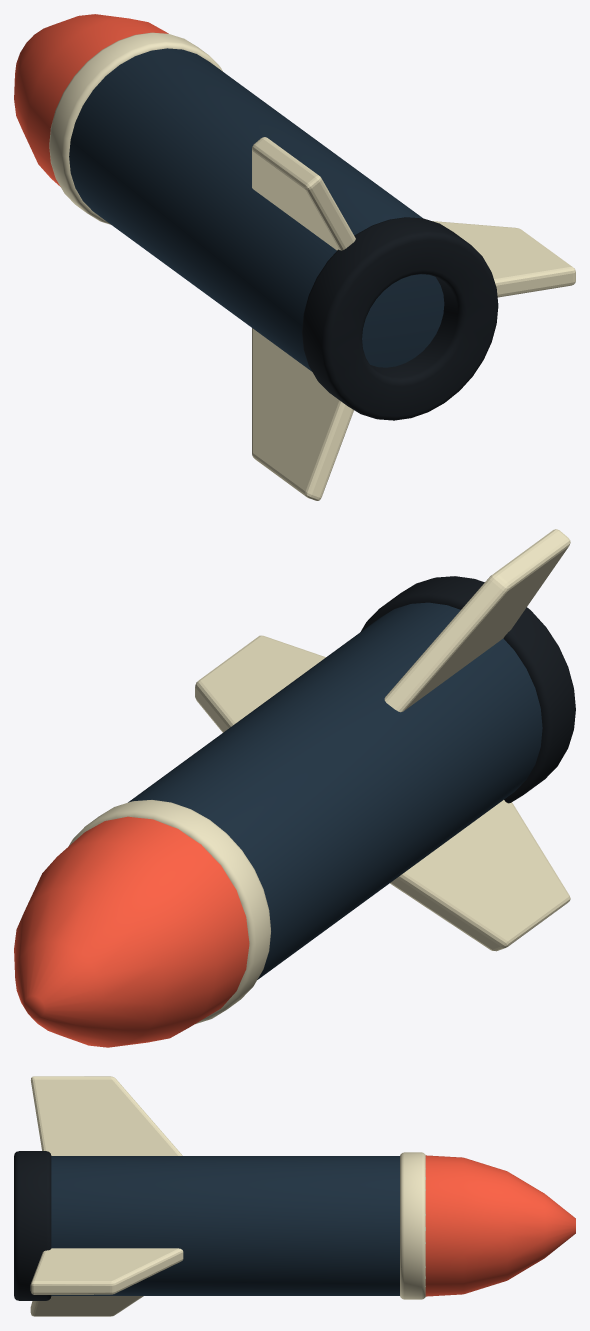
The model's file is dock_thumper_rocket_a.glb.
3 renders of one model, top to bottom at view 1: azimuth 30°, elevation 25°; view 2: azimuth 150°, elevation 25°; view 3: azimuth 270°, elevation 25°, orthographic. The views are drawn at different scales.
Visible parts, largest first — view 1: RocketBody, ExhaustRim, IvoryFin_2, RoundedCoralNose, IvoryFin_1, RocketIvoryBand, IvoryFin_0; view 2: RocketBody, RoundedCoralNose, IvoryFin_2, IvoryFin_1, ExhaustRim, RocketIvoryBand, IvoryFin_0; view 3: RocketBody, RoundedCoralNose, IvoryFin_1, IvoryFin_0, ExhaustRim, RocketIvoryBand, IvoryFin_2.
Boxes of the visible parts, box(x1,y1,x2,y2) form: RocketBody: box(69, 48, 444, 371); ExhaustRim: box(302, 217, 498, 420); IvoryFin_2: box(252, 328, 353, 500); RoundedCoralNose: box(14, 14, 168, 186); IvoryFin_1: box(252, 137, 355, 250); RocketIvoryBand: box(49, 32, 222, 224); IvoryFin_0: box(432, 221, 575, 297); RocketBody: box(128, 602, 542, 979); RoundedCoralNose: box(14, 816, 249, 1047); IvoryFin_2: box(390, 800, 570, 951); IvoryFin_1: box(384, 529, 570, 712); ExhaustRim: box(361, 576, 575, 803); RocketIvoryBand: box(68, 800, 270, 1024); IvoryFin_0: box(195, 635, 325, 732); RocketBody: box(51, 1156, 399, 1295); RoundedCoralNose: box(425, 1155, 575, 1296); IvoryFin_1: box(30, 1076, 182, 1155); IvoryFin_0: box(30, 1248, 183, 1294); ExhaustRim: box(14, 1151, 51, 1300); RocketIvoryBand: box(400, 1152, 425, 1299); IvoryFin_2: box(30, 1296, 143, 1316).
Size of the model in its own units: 0.1841 by 0.2116 by 0.45.
